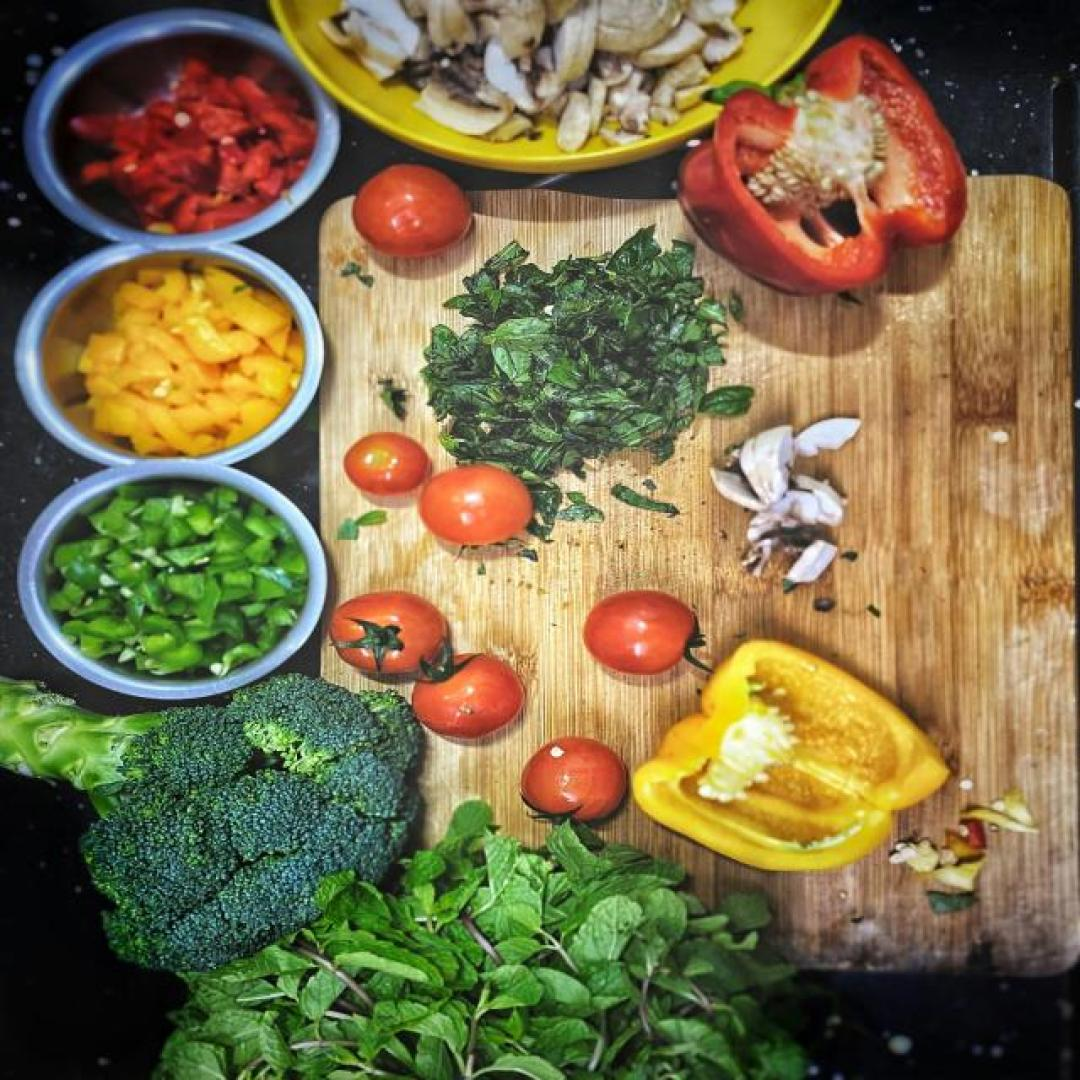matang: (350, 166, 474, 256), (582, 589, 700, 677), (331, 589, 447, 673), (522, 738, 634, 824), (414, 655, 526, 739), (418, 466, 535, 546), (344, 431, 430, 494)
